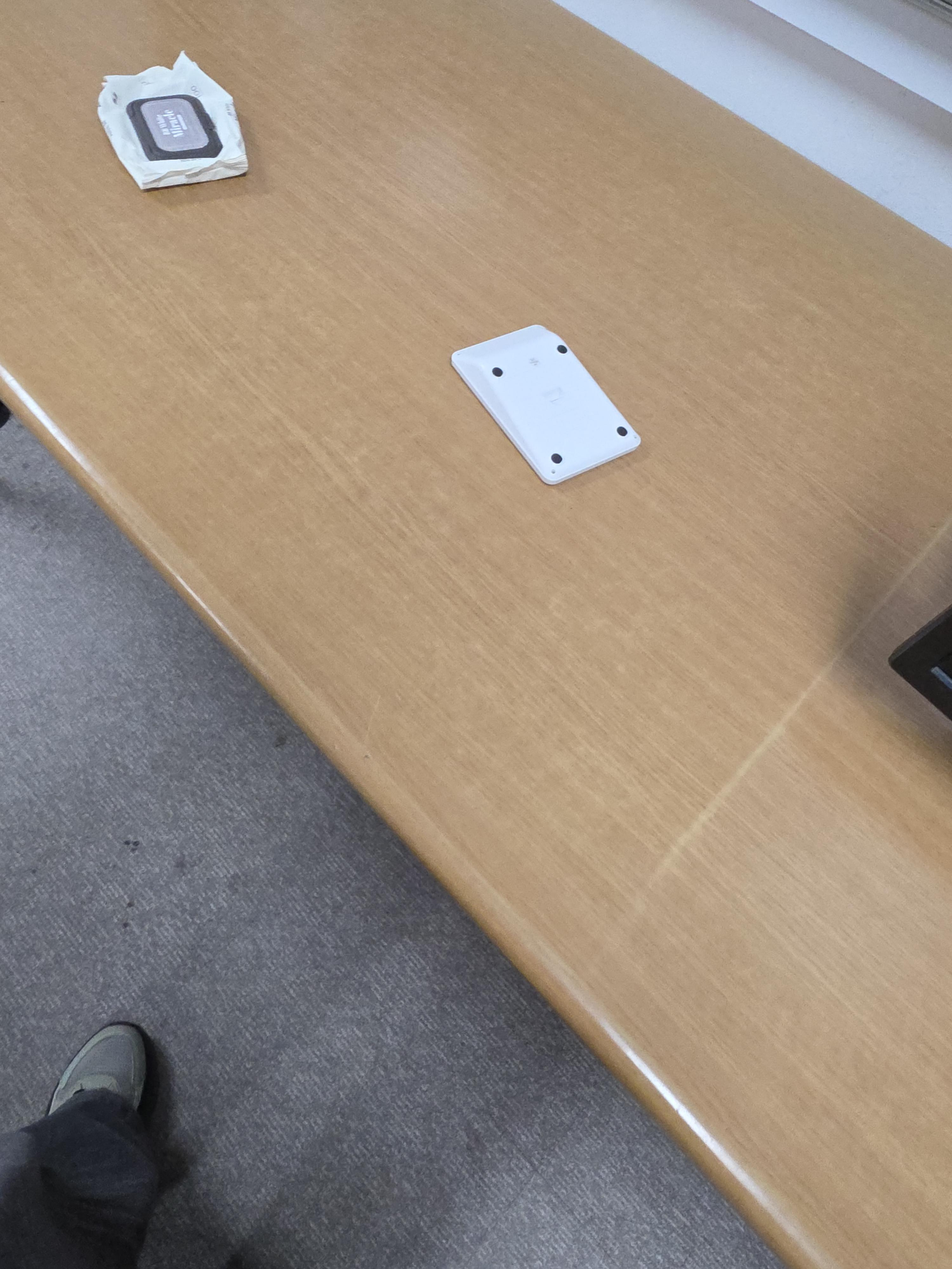calculator: (451, 325, 643, 486)
tissue: (97, 49, 248, 192)
